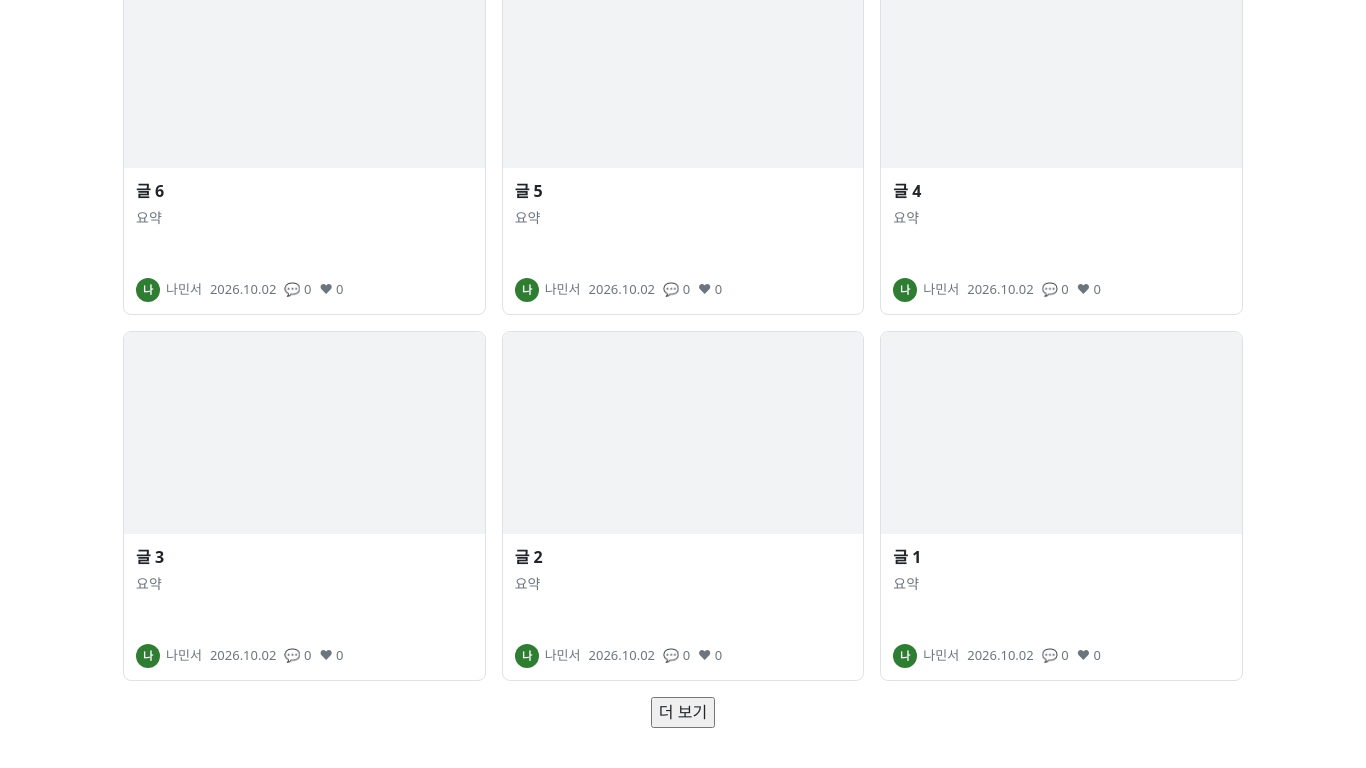
Test: FeedPage › 팔로우한 사람의 카드를 작성자와 함께 보여 주고 [더 보기]로 이어 붙인다
(page scrolled)
Click the button "더 보기" at (683, 713), box x1=651 y1=697 x2=715 y2=728
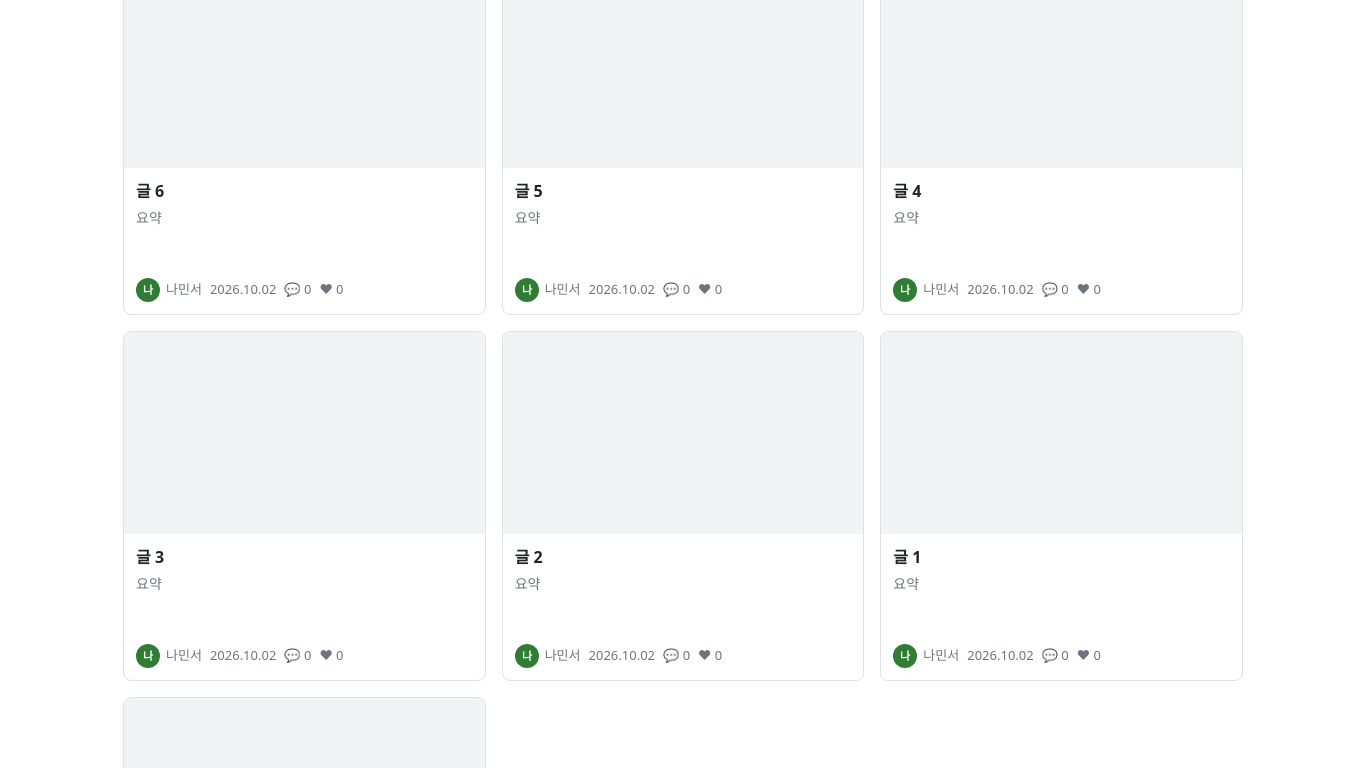
Result: the number of elements with test id "post-card" is 10
